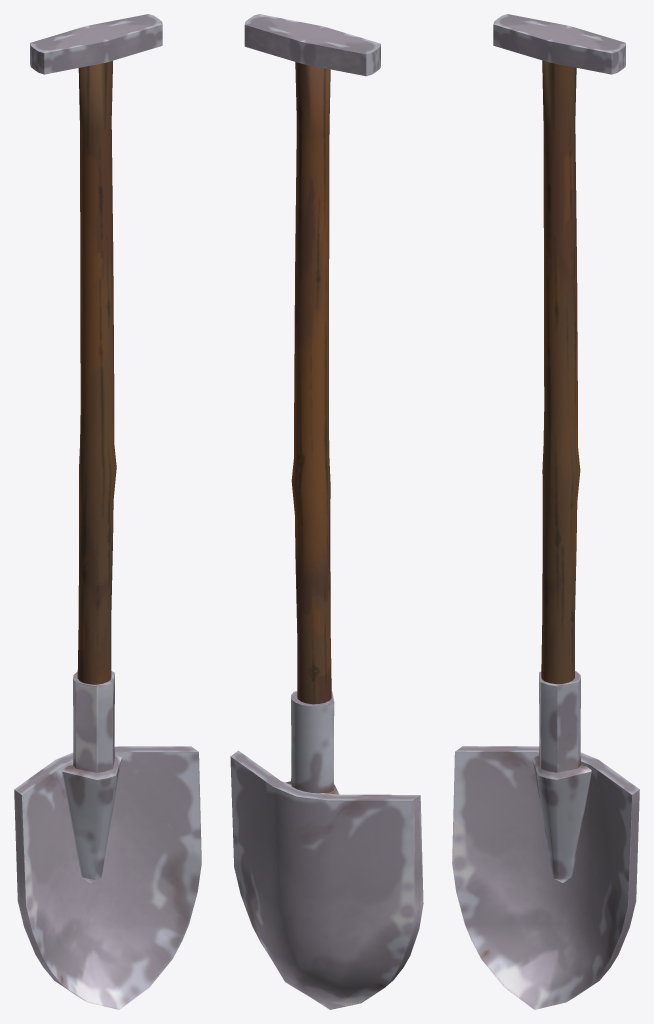
Rendered from Shovel_Bronze.fbx.
3 renders of one model, left to right at view 1: azimuth 30°, elevation 25°; view 2: azimuth 150°, elevation 25°; view 3: azimuth 330°, elevation 25°, orthographic. The views are drawn at different scales.
Visible parts, largest first — view 1: Shovel_Bronze; view 2: Shovel_Bronze; view 3: Shovel_Bronze.
Part boxes in pixels (x1=…): Shovel_Bronze: x1=14, y1=14, x2=201, y2=1009; Shovel_Bronze: x1=230, y1=14, x2=423, y2=1009; Shovel_Bronze: x1=452, y1=14, x2=639, y2=1009.
Bounding box in the file's own units: 28.71 × 149 × 11.45.
